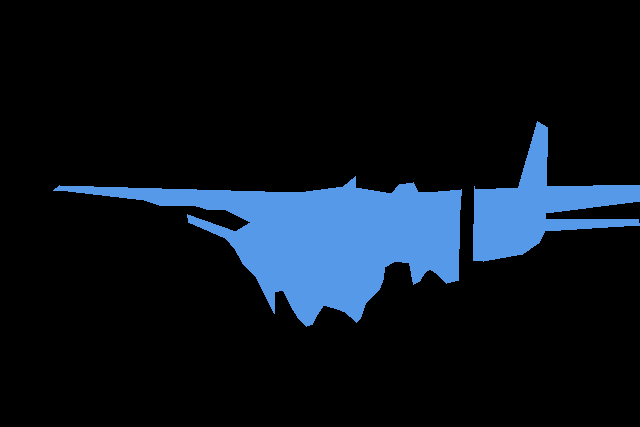Airplane: (53, 121, 640, 326)
